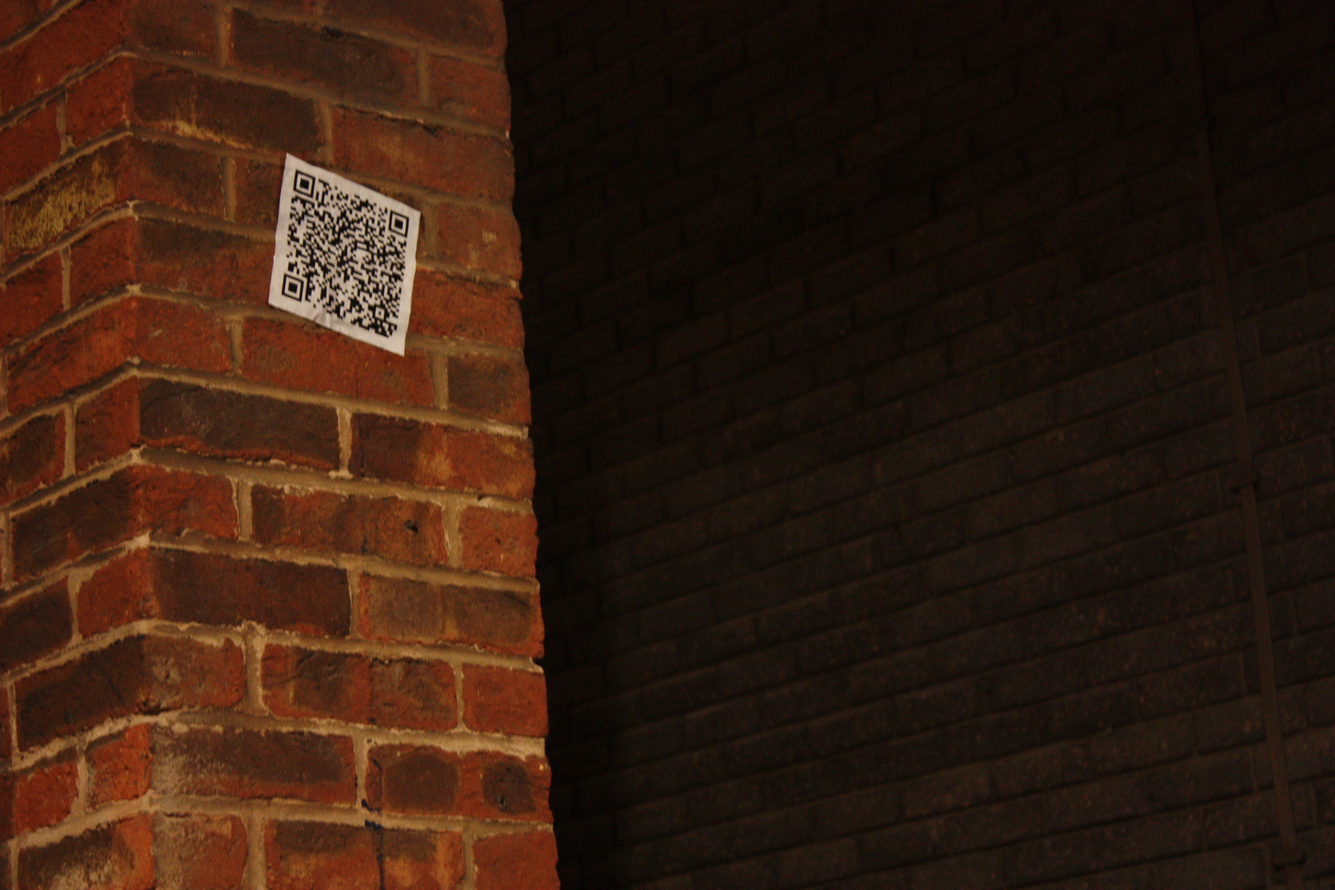QR-CODE: (281, 169, 409, 340)
